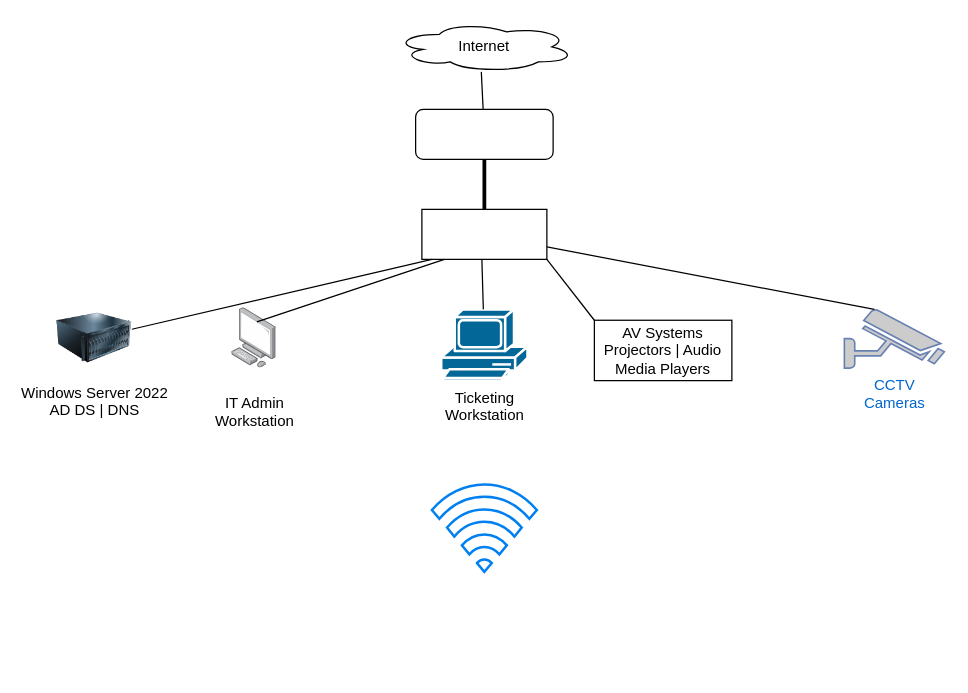
Some shapes in this 968 by 693 pixel diagram are drawn without their labels. The shapes that lost their labels are listed below. From the top down, each one's centre as x and y in pixels, then its label:
(483,133): Router/Firewall
(484,233): Core Switch
(484,527): Wireless AP Staff & Guest WiFi
